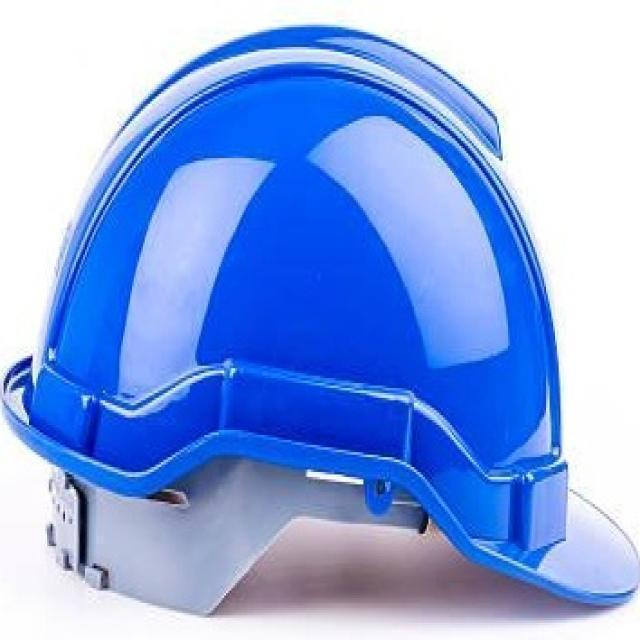helmet: (4, 28, 638, 604)
